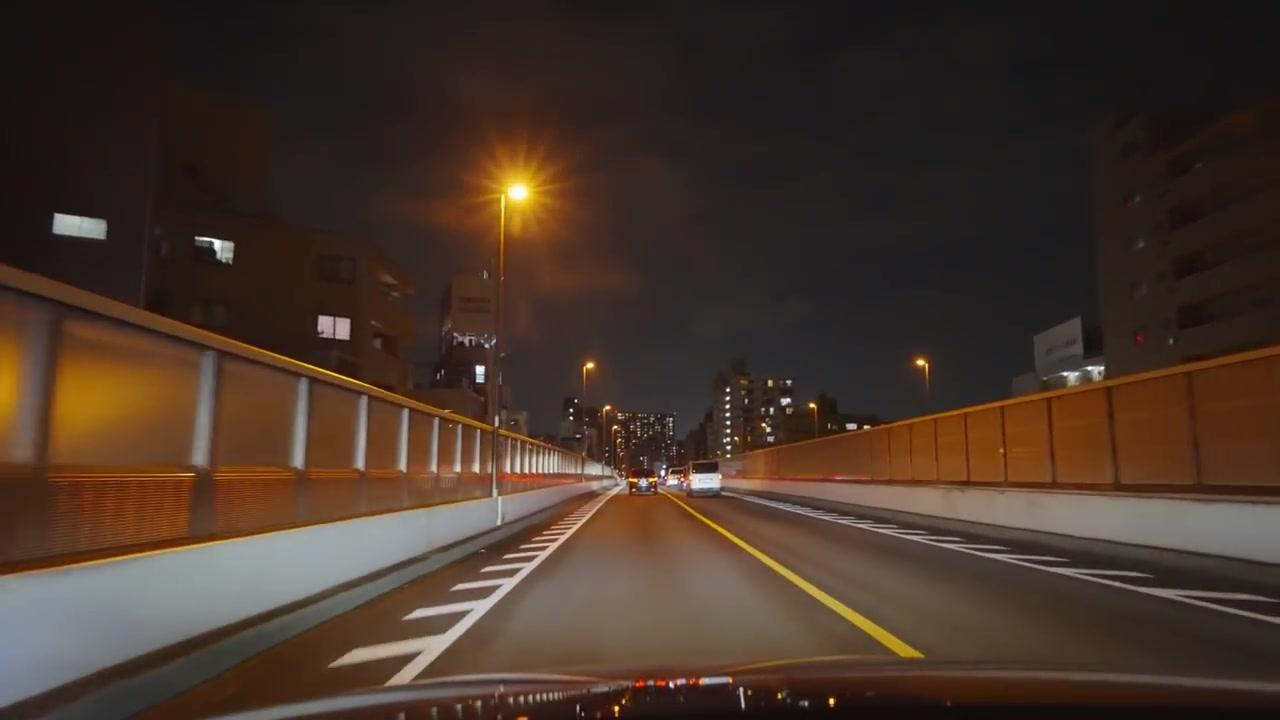bus: (688, 459, 722, 497)
car: (629, 477, 656, 494), (666, 475, 686, 489)
truck: (687, 459, 722, 498)
